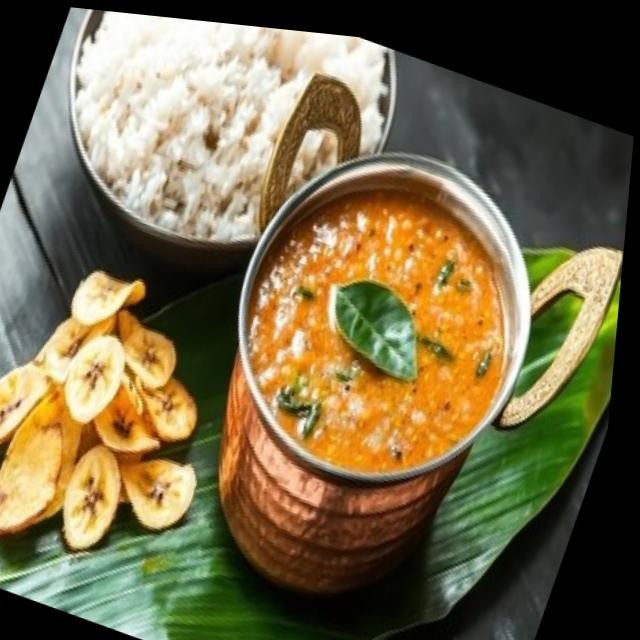BANANA CHIPS: (0, 276, 197, 551)
DAL: (249, 201, 501, 467)
RICE: (76, 11, 384, 234)
